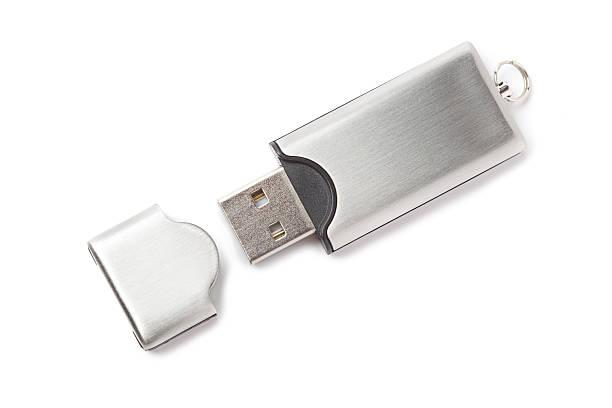USB Flash Drive: (220, 42, 527, 264)
